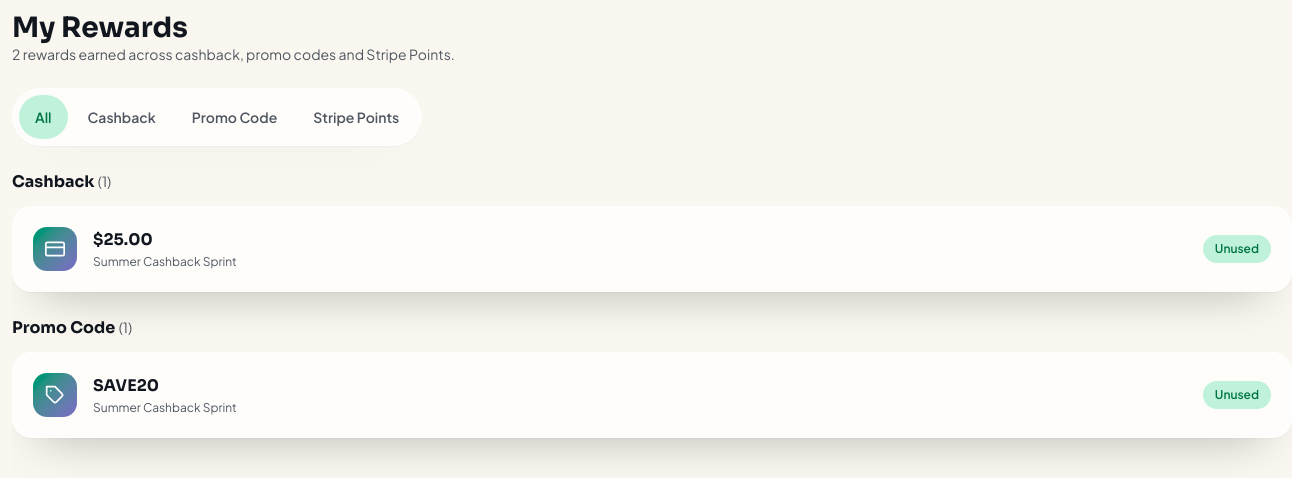
RewardsPage › TC-2: filter tabs actually filter the list client-side
The width and height of the screenshot is (1292, 478).
Expected: the text "$25.00" is shown, x1=93 y1=229 x2=153 y2=250
Click the tab "Cashback" at (122,117), box x1=72 y1=95 x2=172 y2=139
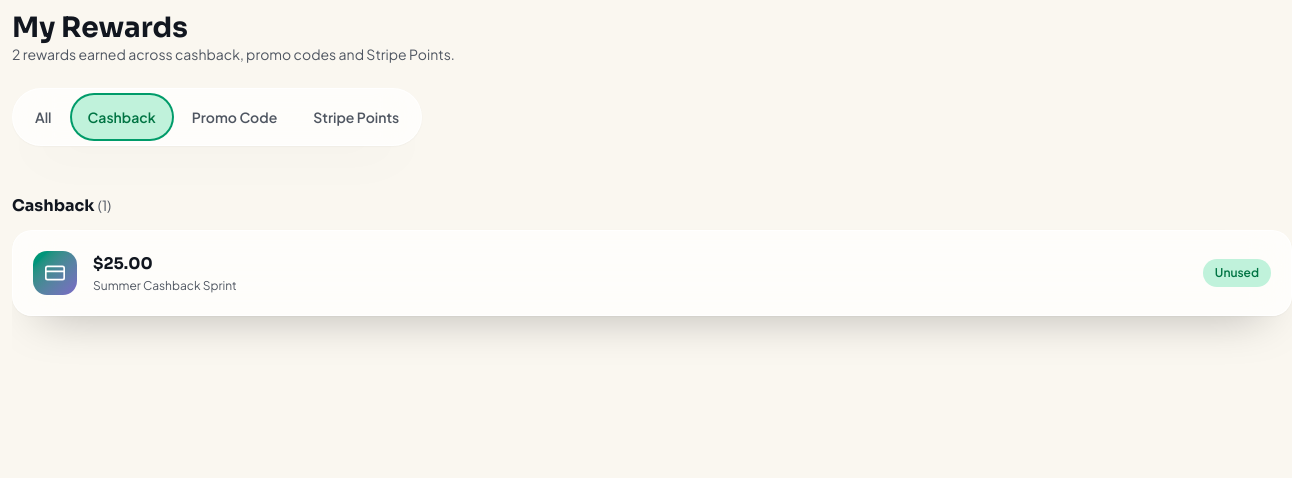
Expected: the text "$25.00" is shown, x1=93 y1=253 x2=153 y2=274
Now the text "SAVE20" is gone
Click the tab "All" at (43,117), box x1=19 y1=95 x2=68 y2=139
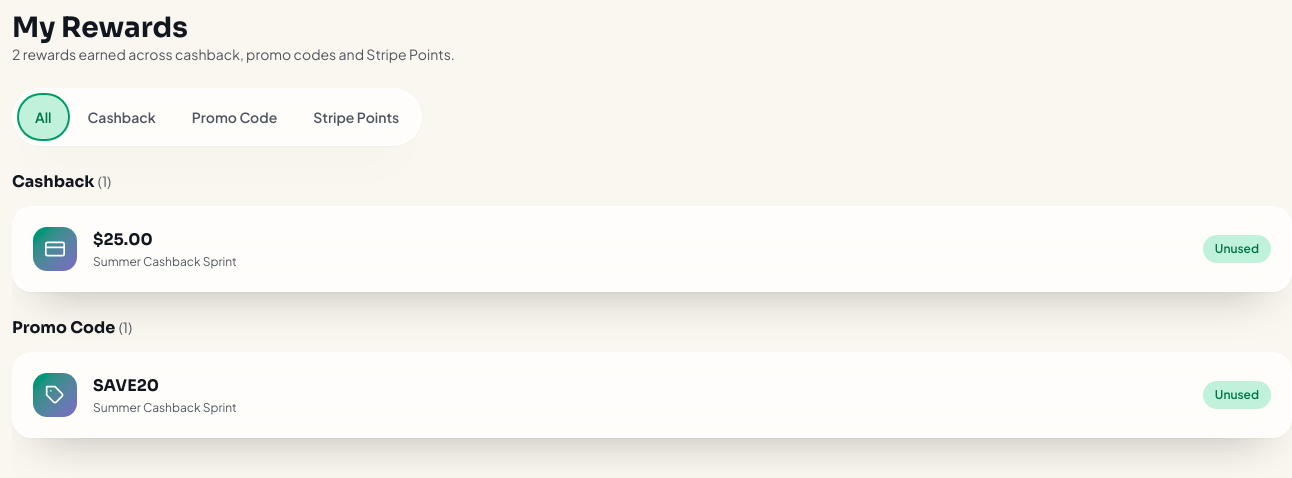
Expected: the text "$25.00" is shown, x1=93 y1=229 x2=153 y2=250
Now the text "SAVE20" is shown, box x1=93 y1=375 x2=159 y2=396
